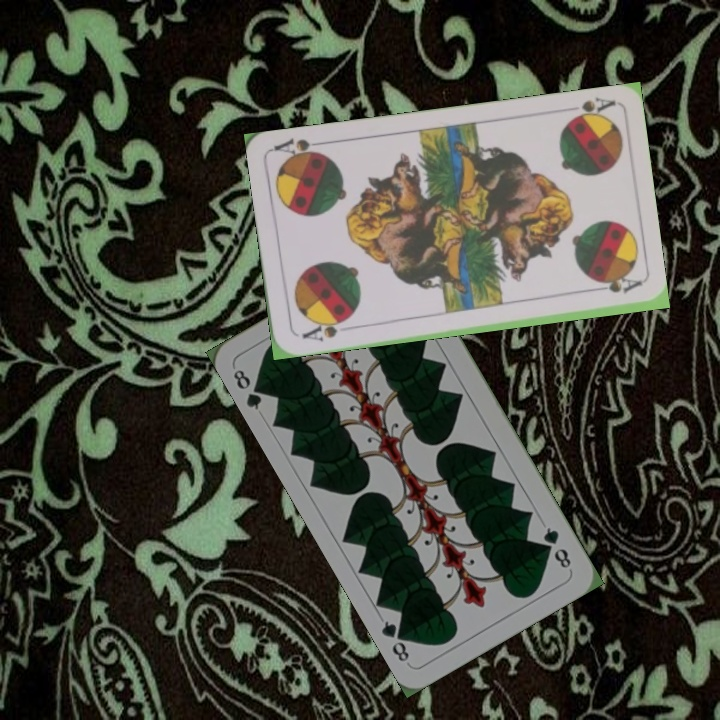G8: (229, 365, 270, 413), (539, 523, 574, 571)
SA: (562, 93, 617, 125), (298, 314, 352, 344)
